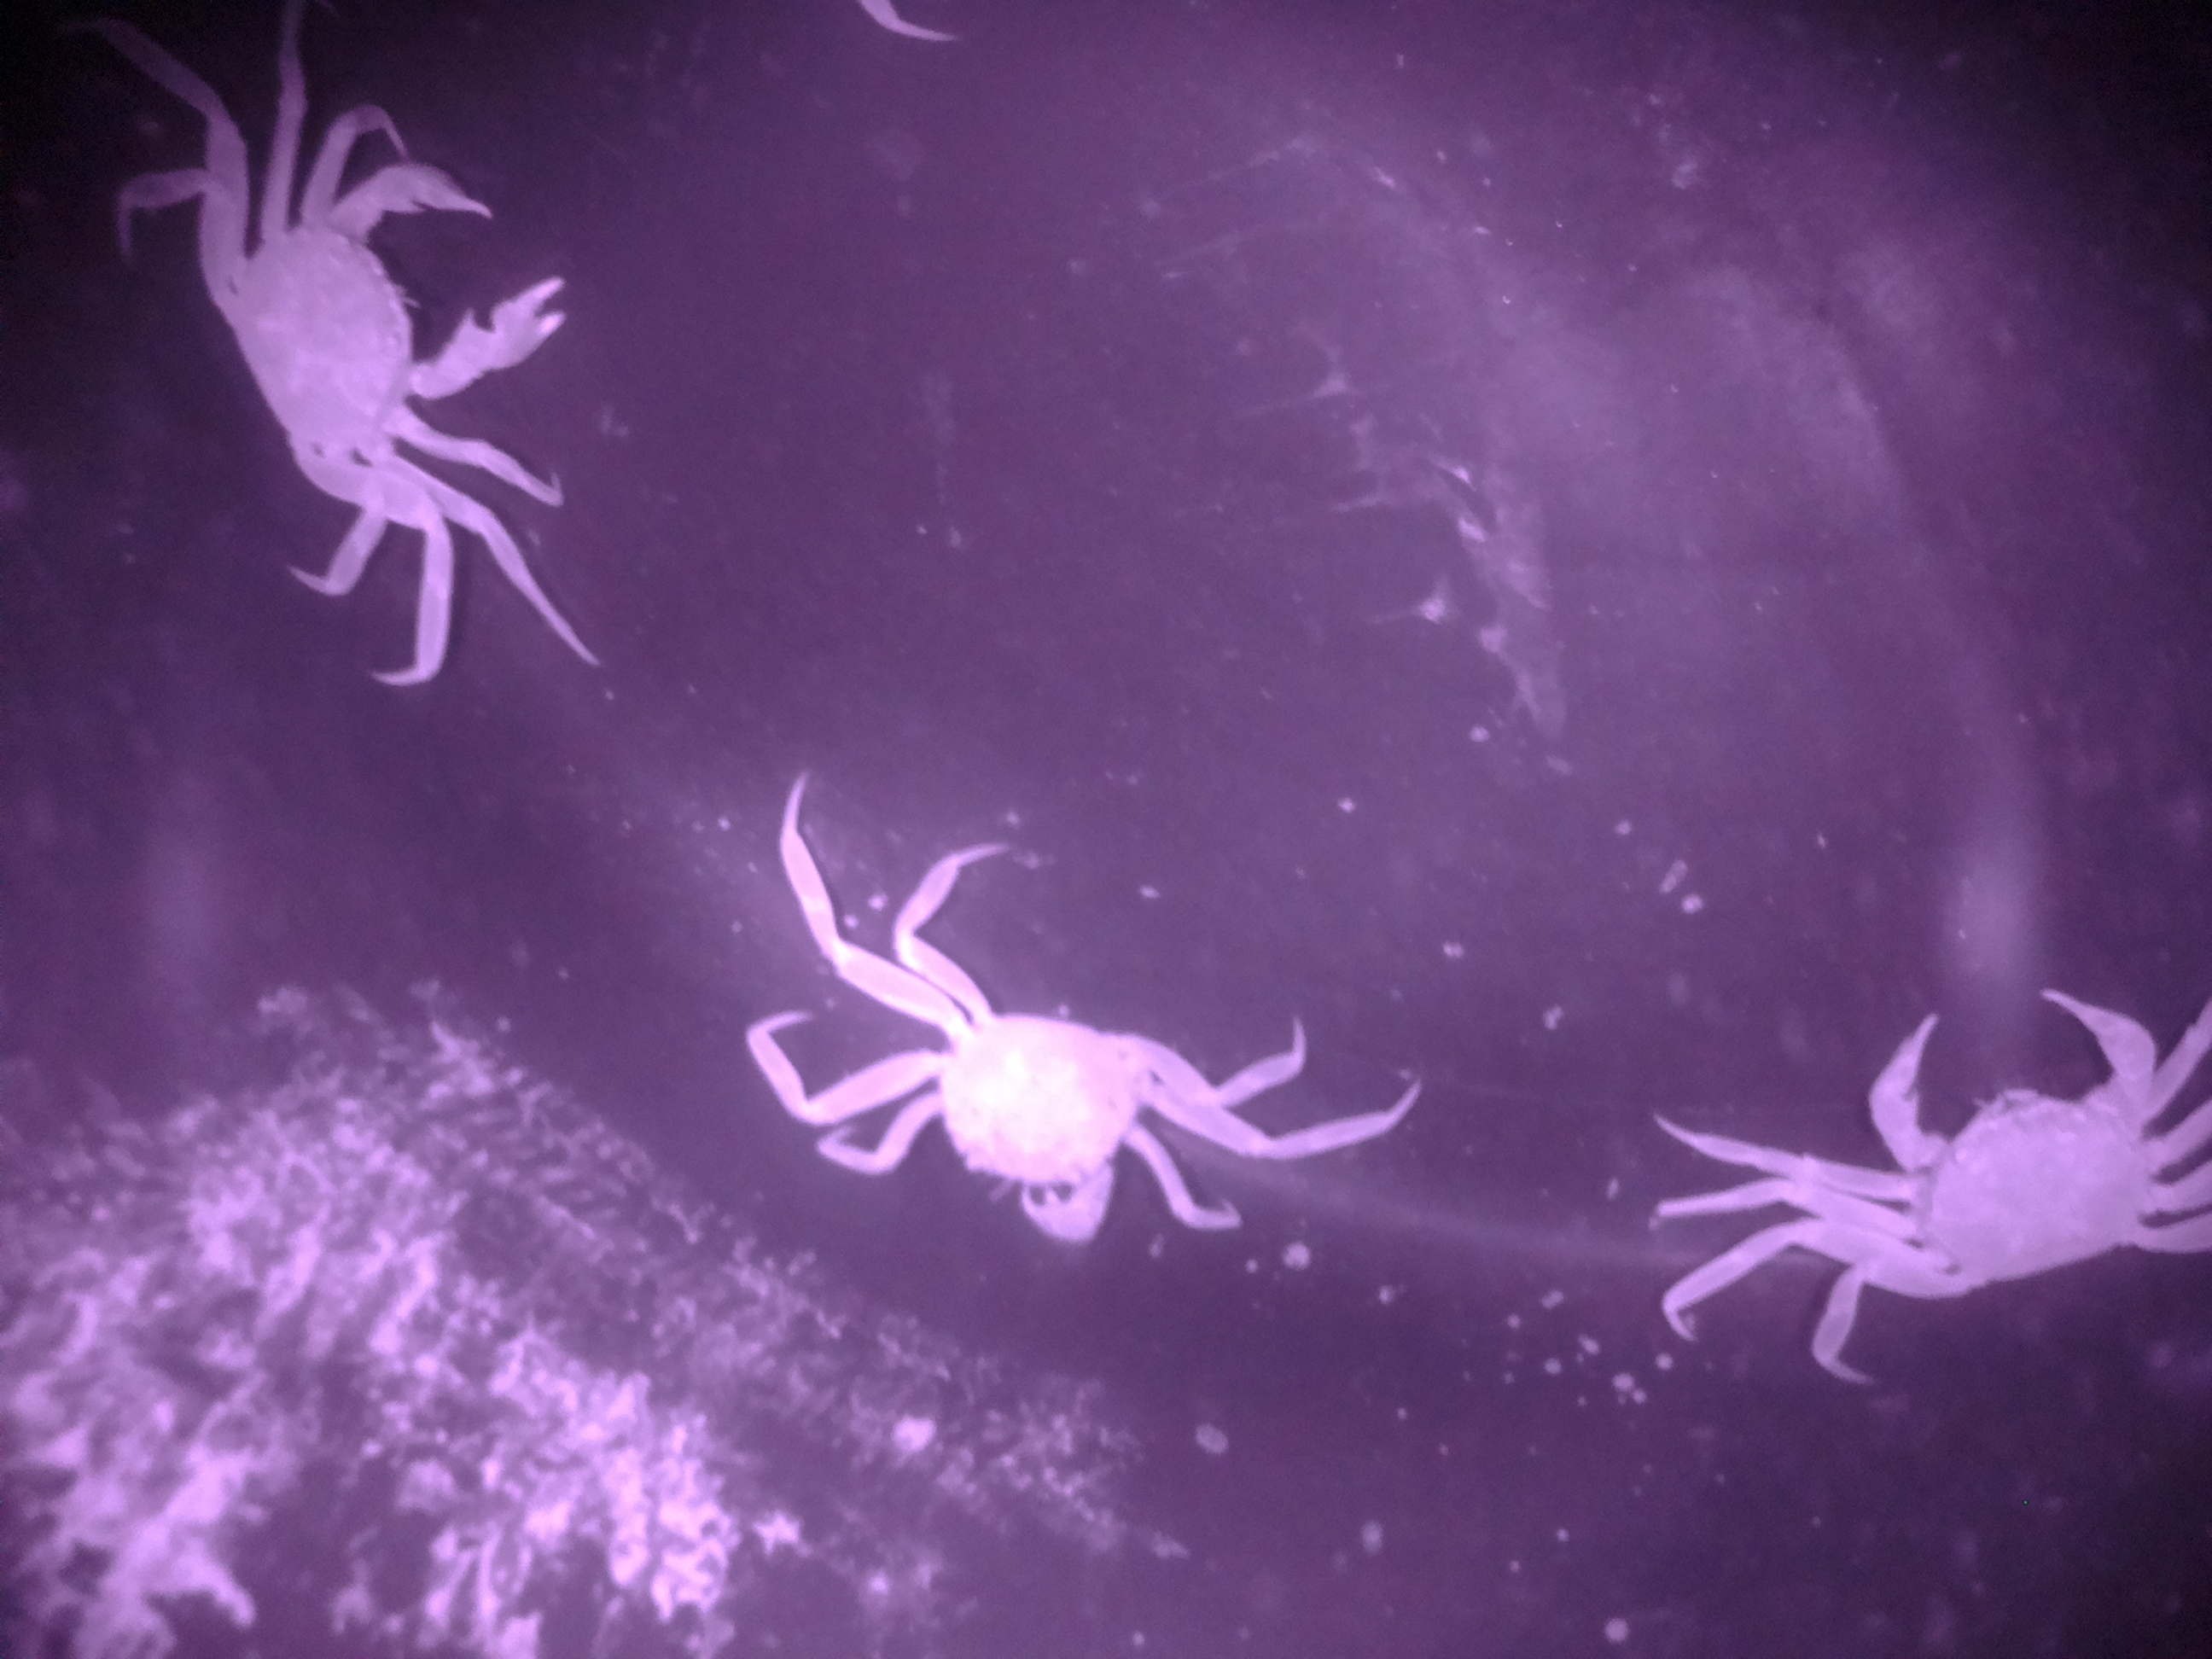Crab: (103, 122, 643, 561), (1782, 957, 2212, 1326), (853, 871, 1202, 1288)
